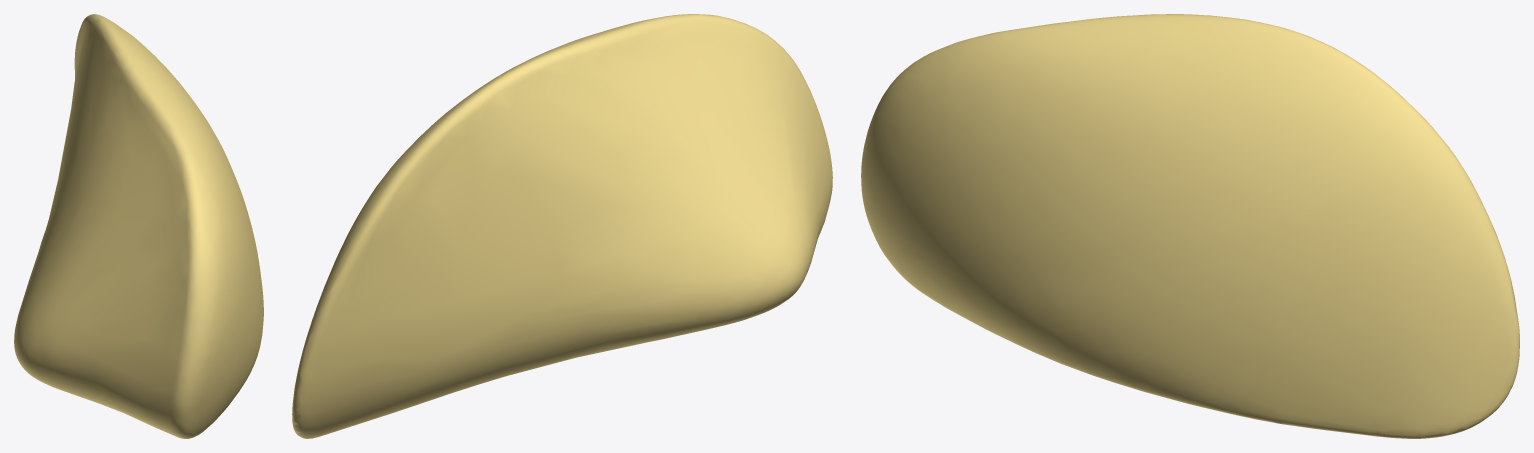
The picture shows the model from 3 angles, left to right: view 1: azimuth 30°, elevation 25°; view 2: azimuth 150°, elevation 25°; view 3: azimuth 270°, elevation 25°; orthographic projection. The views are drawn at different scales.
Visible parts, largest first — view 1: ZA_744a77e9eecac219; view 2: ZA_744a77e9eecac219; view 3: ZA_744a77e9eecac219.
Part boxes in pixels (x1,y1,x2,y2): ZA_744a77e9eecac219: [14, 14, 263, 438]; ZA_744a77e9eecac219: [292, 14, 832, 438]; ZA_744a77e9eecac219: [861, 14, 1519, 438].
Size of the model in its own units: 0.0162 by 0.0168 by 0.0284.
